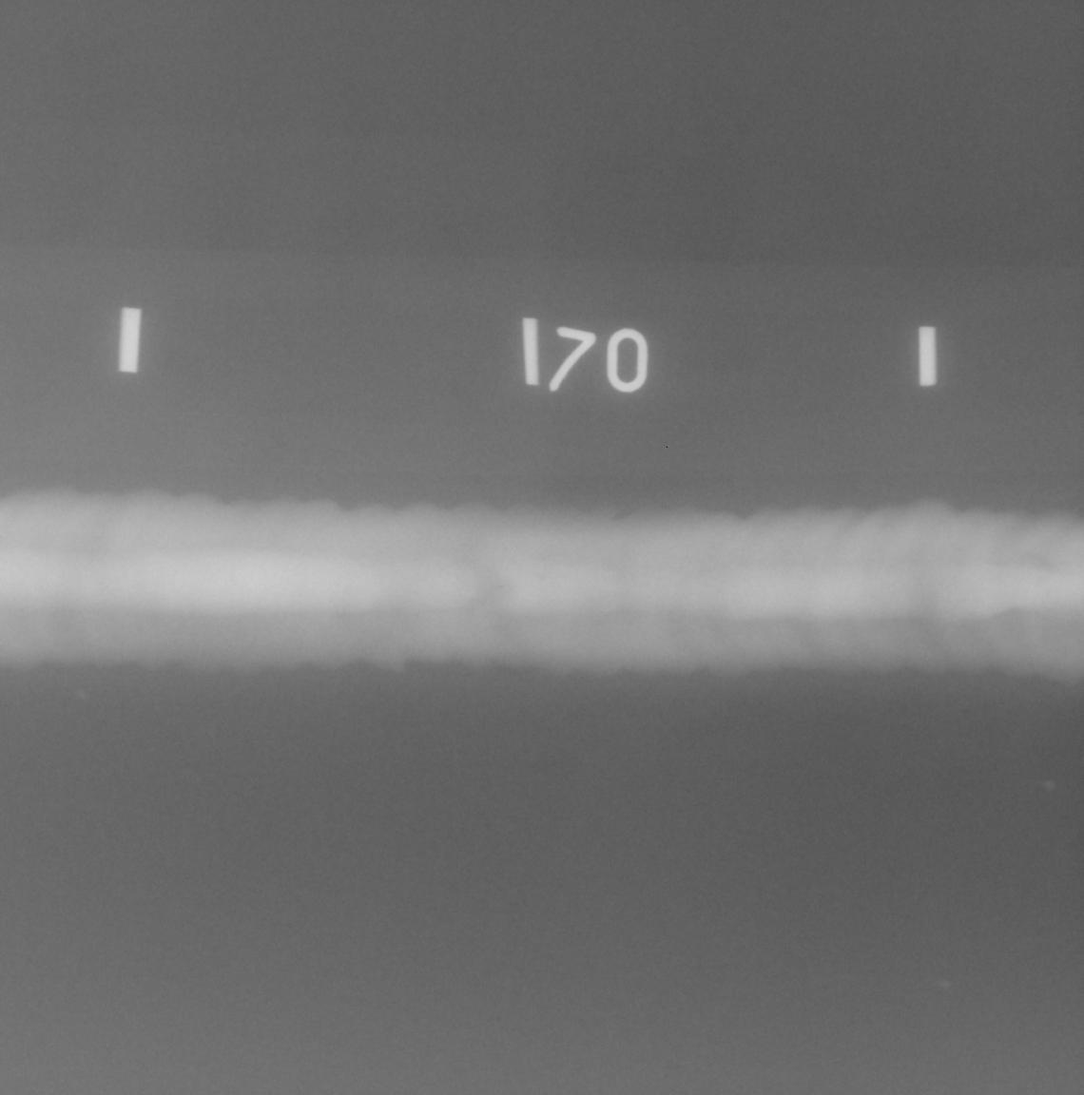Inclusion: (499, 585, 502, 588)
